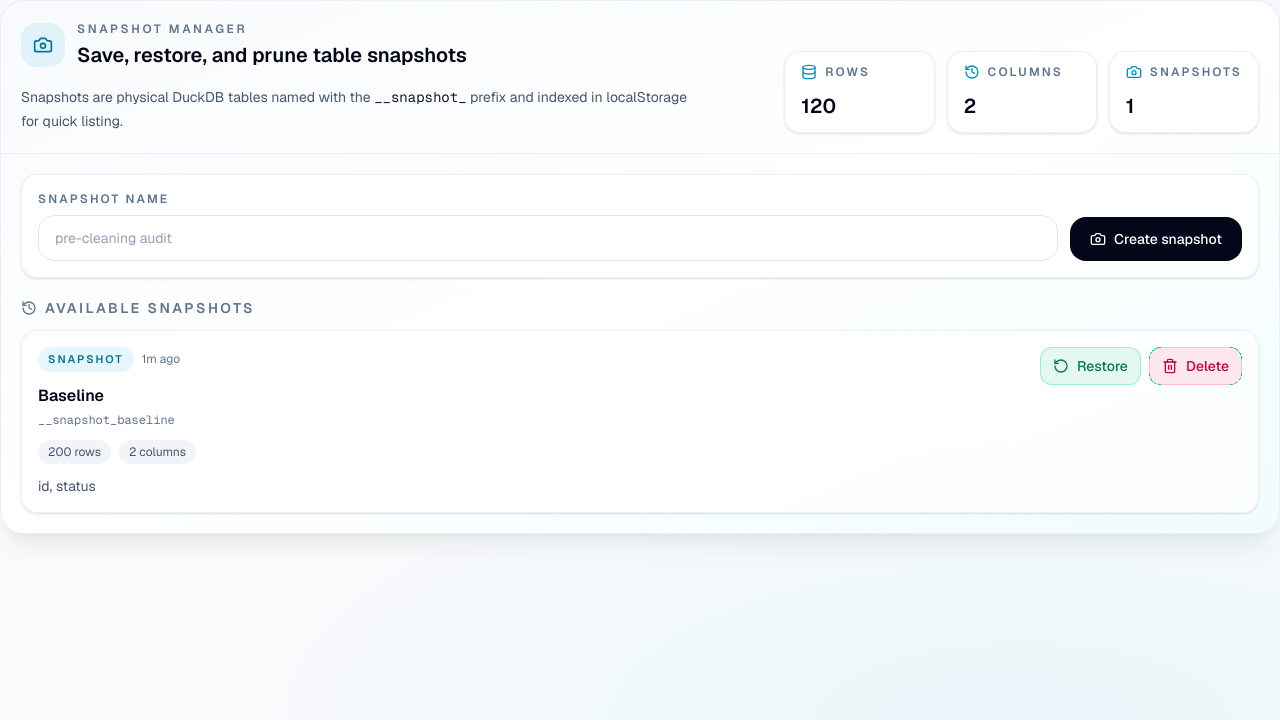
SnapshotManager › deletes a snapshot and removes it from local storage
Click the button "Delete" at (1195, 366), box [1149,347,1242,385]
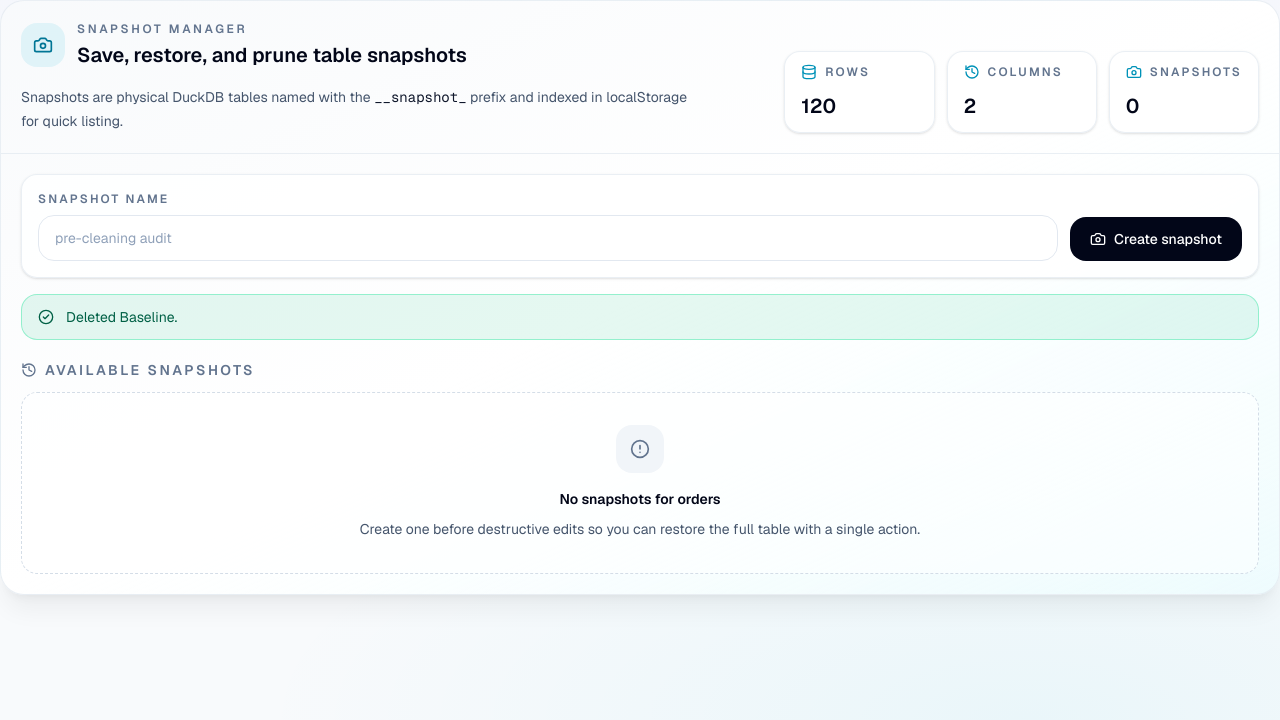
Check: the text "Deleted Baseline." is shown, box [66,307,177,327]
